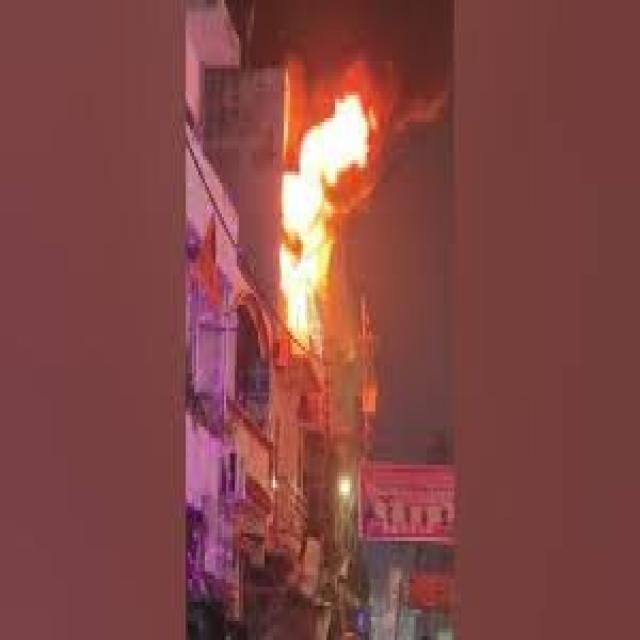fire: (325, 93, 368, 188), (282, 172, 325, 232), (279, 243, 329, 289), (298, 120, 326, 176)
